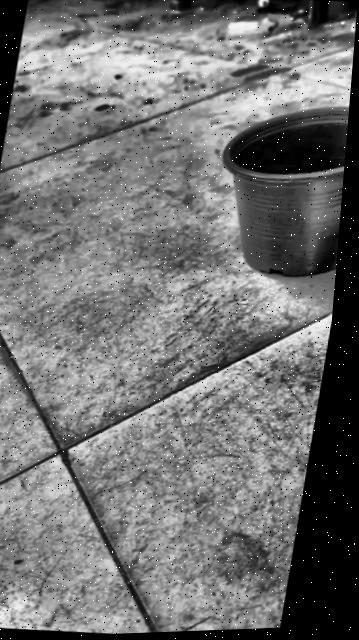pot: (201, 94, 350, 282)
